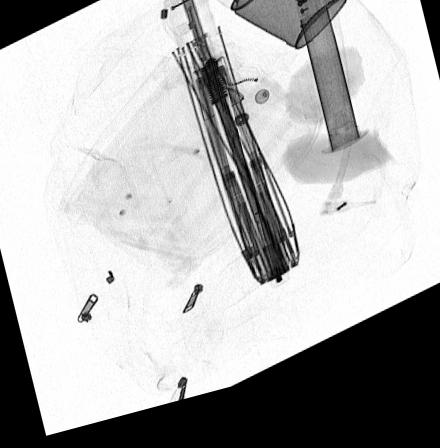Sprayer: (204, 0, 348, 66)
